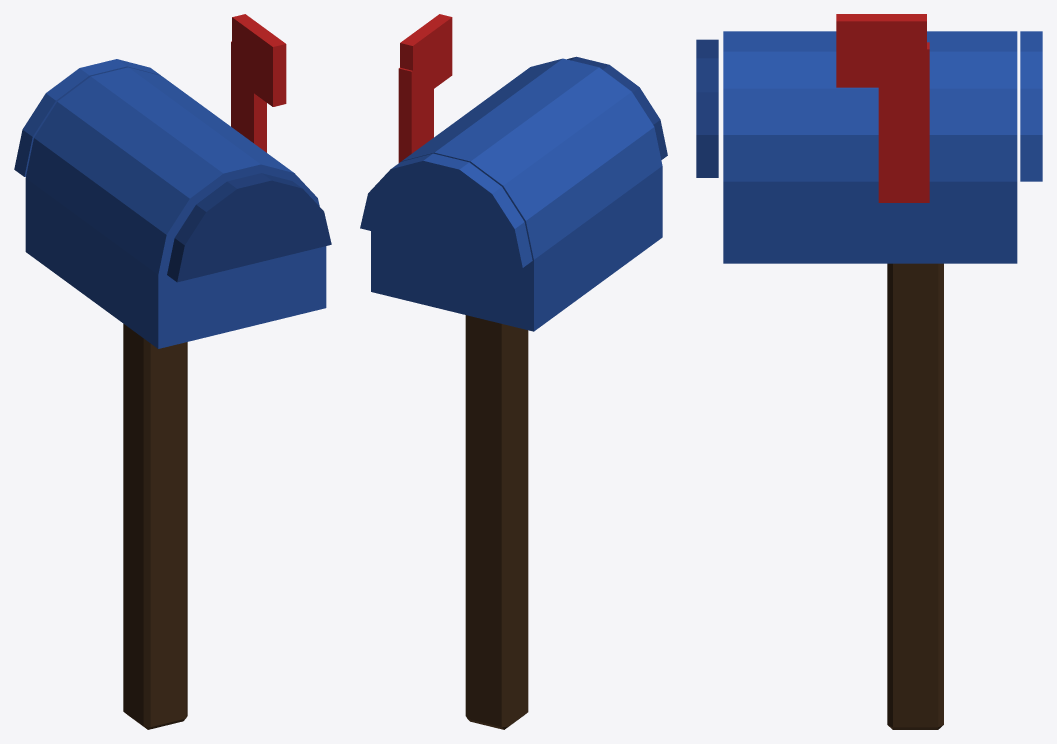
File: Mailbox.glb
3 views of the same model, side by side, from view 1: azimuth 30°, elevation 25°; view 2: azimuth 150°, elevation 25°; view 3: azimuth 270°, elevation 25° (orthographic). The views are drawn at different scales.
Visible parts, largest first — view 1: Body; view 2: Body; view 3: Body.
Part boxes in pixels (x1,y1,x2,y2): Body: (14,14,331,729); Body: (360,14,667,729); Body: (696,14,1042,729).
Bounding box in the file's own units: 0.405 × 1.46 × 0.613.
